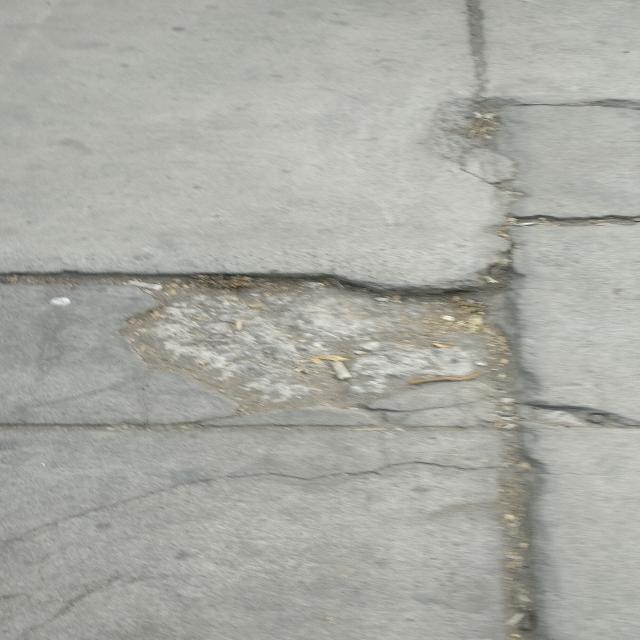hole: (132, 270, 520, 408)
